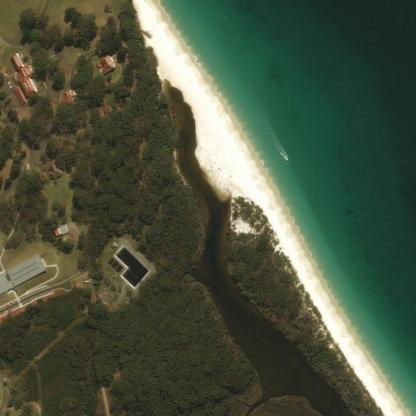ship: (285, 157, 288, 161)
